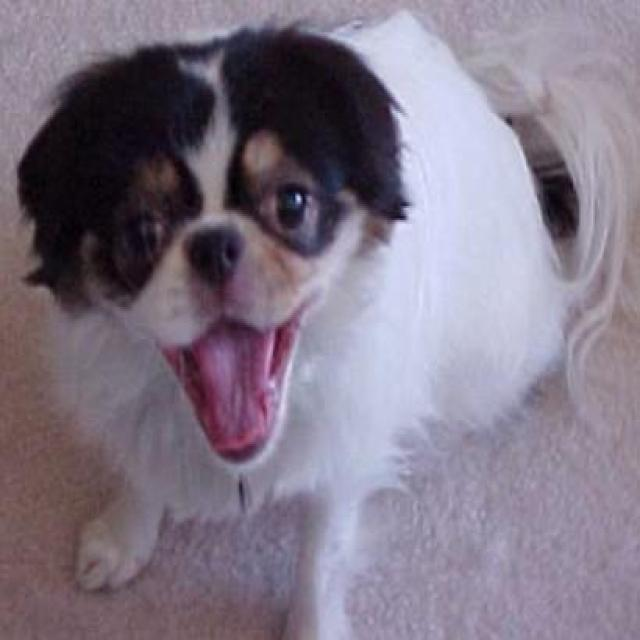husky: (12, 4, 630, 638)
